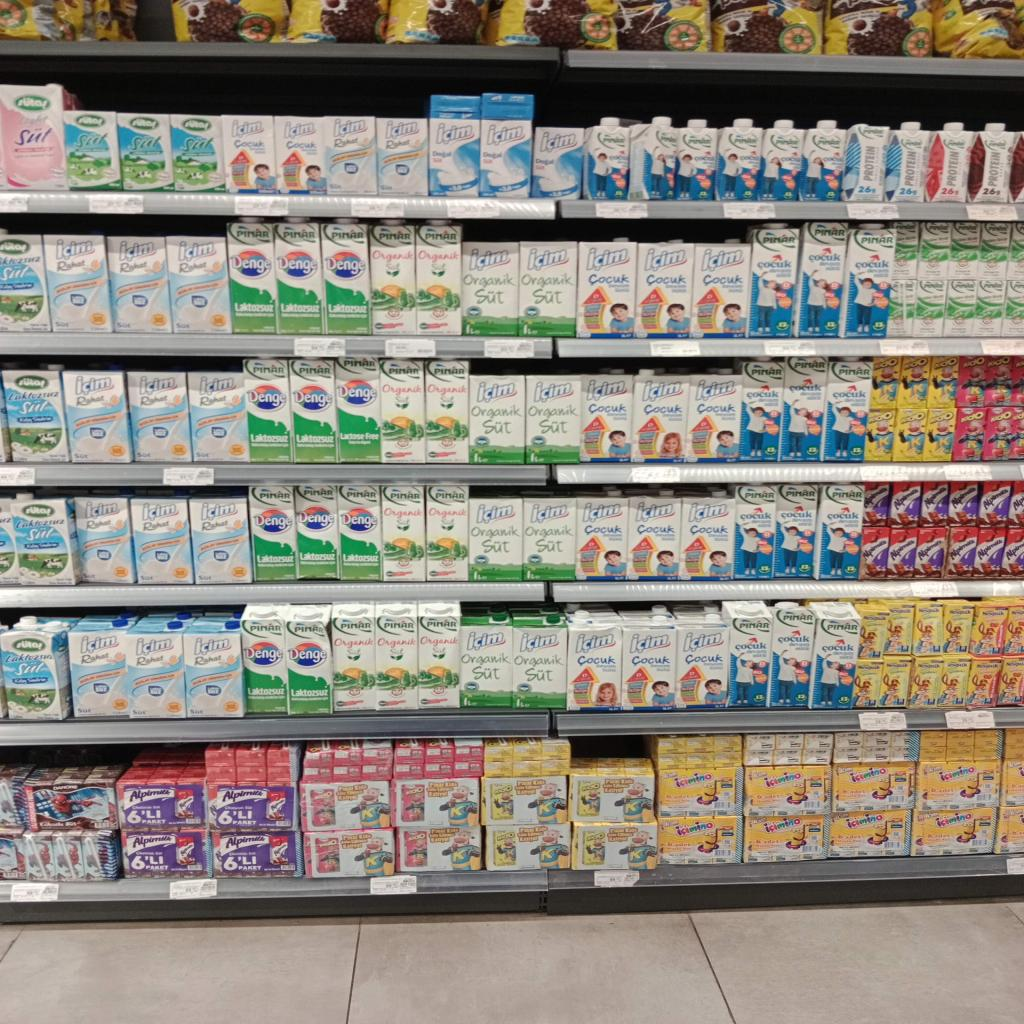price_tag: (294, 337, 346, 358), (235, 195, 287, 216), (447, 199, 501, 219), (350, 198, 404, 218), (852, 463, 911, 481), (163, 466, 214, 486), (89, 194, 142, 213), (485, 338, 535, 358), (386, 339, 436, 358), (170, 879, 217, 899), (595, 201, 647, 219), (946, 710, 995, 729), (371, 875, 417, 895), (859, 712, 907, 731), (846, 203, 899, 220), (966, 204, 1018, 221), (650, 340, 701, 357), (630, 466, 681, 483), (723, 202, 774, 219), (11, 883, 59, 901), (764, 340, 817, 356), (911, 581, 958, 598), (942, 464, 991, 480), (879, 340, 930, 355), (594, 870, 639, 887), (0, 466, 35, 486), (980, 339, 1023, 355), (858, 712, 890, 731), (0, 192, 28, 213), (992, 582, 1023, 596), (1007, 857, 1023, 874)
product: (0, 84, 73, 190), (0, 616, 71, 720), (44, 231, 113, 333), (69, 618, 134, 719), (62, 370, 132, 463), (3, 367, 70, 462), (167, 236, 231, 334), (116, 761, 206, 830), (107, 236, 171, 333), (12, 496, 81, 585), (185, 617, 245, 718), (577, 238, 637, 338), (226, 218, 277, 334), (128, 370, 192, 462), (842, 225, 894, 338), (748, 224, 799, 338), (796, 222, 847, 336), (127, 619, 185, 719), (273, 222, 324, 335), (691, 241, 750, 338), (188, 369, 249, 462), (321, 222, 371, 335), (130, 496, 194, 584), (518, 242, 577, 337), (637, 241, 694, 339), (809, 602, 861, 709), (189, 495, 252, 583), (460, 606, 513, 708), (461, 243, 519, 336), (244, 358, 295, 463), (513, 610, 567, 709), (569, 613, 624, 710), (631, 369, 688, 462), (570, 761, 654, 824), (370, 221, 416, 336), (76, 496, 136, 584), (415, 221, 461, 335), (0, 230, 51, 332), (289, 358, 338, 463), (24, 829, 120, 882), (623, 614, 676, 710), (723, 602, 771, 708), (685, 370, 740, 462), (679, 490, 735, 580), (526, 371, 580, 464), (241, 606, 287, 714), (470, 374, 525, 464), (676, 615, 729, 708), (769, 602, 815, 709), (822, 360, 870, 462), (332, 602, 376, 713), (380, 359, 426, 465), (580, 370, 633, 462), (628, 489, 681, 581), (301, 778, 391, 832), (286, 608, 331, 715), (26, 778, 118, 830), (335, 358, 381, 462), (780, 357, 826, 461), (575, 491, 628, 581), (375, 602, 419, 710), (655, 762, 743, 816), (249, 486, 298, 582), (469, 495, 523, 582), (523, 492, 575, 581), (304, 828, 395, 878), (744, 765, 830, 817), (211, 830, 304, 878), (418, 602, 460, 708), (392, 777, 479, 828), (916, 759, 1001, 811), (426, 360, 468, 465), (294, 485, 340, 580), (207, 783, 298, 831), (658, 814, 742, 866), (65, 111, 120, 190), (482, 775, 567, 826), (381, 485, 426, 581), (117, 113, 172, 191), (223, 116, 278, 194), (740, 360, 782, 462), (627, 117, 678, 200), (832, 762, 915, 813), (338, 485, 382, 581), (429, 114, 480, 196), (171, 115, 225, 192), (481, 117, 532, 198), (122, 830, 208, 878), (743, 814, 827, 863), (911, 808, 996, 856), (275, 117, 327, 195), (396, 826, 482, 873), (485, 824, 571, 871), (326, 116, 377, 195), (427, 485, 469, 580), (715, 119, 763, 202), (828, 810, 911, 858), (571, 823, 657, 869), (377, 118, 427, 196), (814, 498, 861, 580), (925, 123, 974, 201), (531, 127, 583, 198), (884, 122, 930, 202), (842, 124, 889, 202), (800, 120, 845, 201), (969, 123, 1012, 203), (676, 119, 717, 201), (586, 118, 628, 198), (734, 496, 774, 579), (763, 120, 803, 202), (777, 503, 815, 578), (893, 409, 937, 462), (982, 406, 1023, 461), (969, 601, 1009, 657), (965, 658, 1003, 708), (910, 600, 944, 655), (918, 222, 950, 280), (947, 222, 979, 280), (978, 222, 1010, 280), (945, 279, 977, 337), (914, 280, 946, 338), (954, 406, 988, 460), (974, 280, 1006, 336), (942, 599, 974, 654), (937, 655, 970, 708), (956, 356, 990, 407), (897, 356, 930, 408), (883, 600, 914, 655), (924, 409, 956, 462), (878, 656, 911, 707), (894, 221, 922, 281), (859, 602, 889, 658), (887, 281, 916, 338), (866, 408, 897, 461), (871, 357, 901, 411), (927, 356, 958, 408), (908, 658, 941, 706), (984, 355, 1015, 406), (852, 658, 883, 709), (978, 481, 1012, 527), (860, 527, 890, 579), (916, 528, 947, 578), (975, 527, 1006, 577), (946, 527, 977, 576), (888, 482, 922, 526), (949, 482, 981, 526), (889, 528, 917, 578), (996, 655, 1023, 706), (1000, 280, 1023, 337), (920, 482, 948, 526), (863, 483, 891, 526), (1003, 598, 1023, 656), (1006, 222, 1023, 281), (1004, 527, 1023, 578), (1009, 481, 1023, 526), (755, 518, 758, 519), (1023, 503, 1024, 506), (387, 148, 389, 149), (934, 312, 936, 312)
